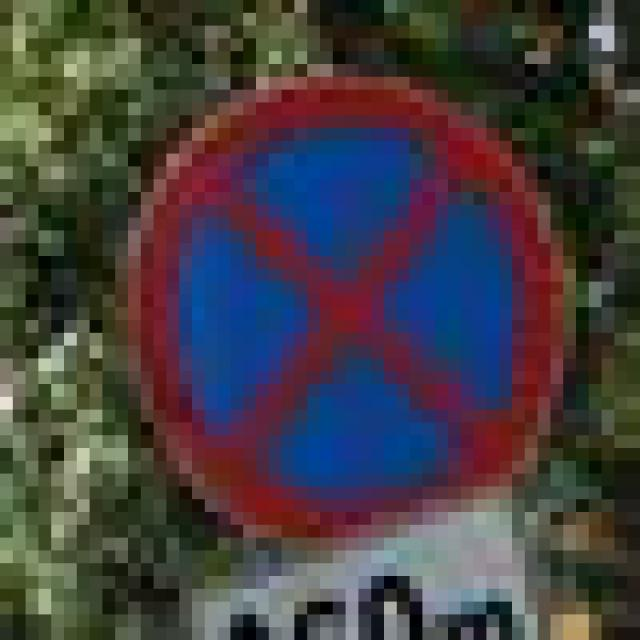NO_STOPPING_OR_STANDING: (115, 64, 563, 512)
